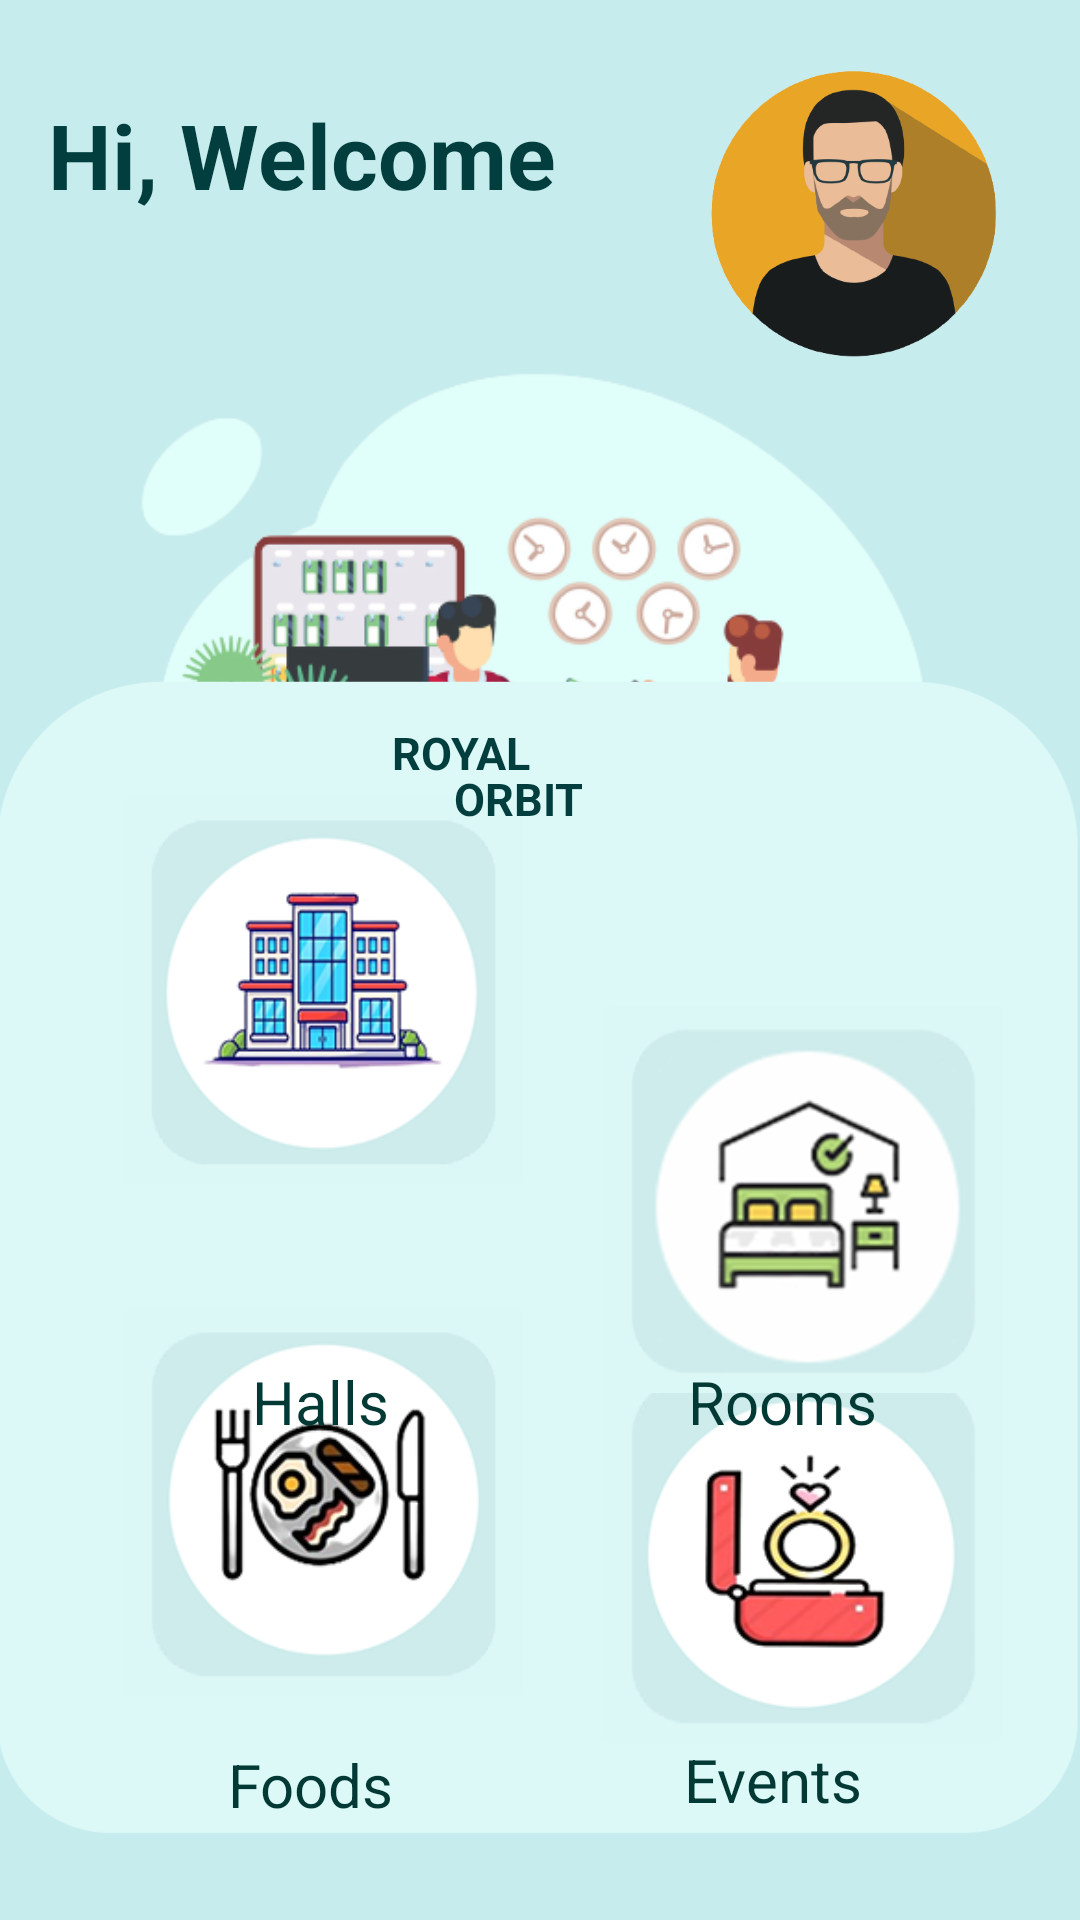

Screen size 1080px×1920px. Icon name, then its center in pixels as point (x, y):
usertwo: point (853, 214)
